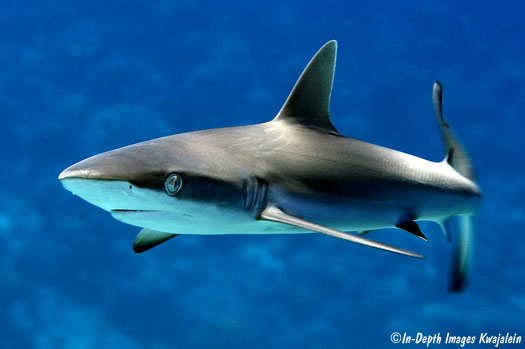Carcharhinus_amblyrhynchos: (54, 35, 490, 264)
